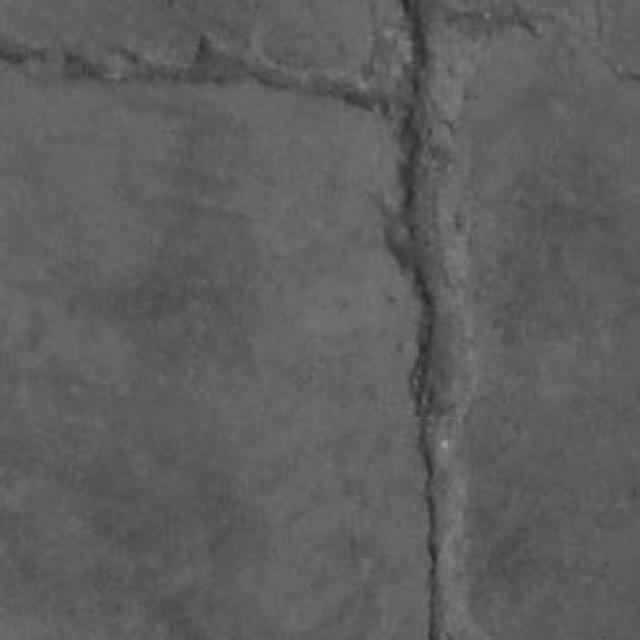crack: (386, 0, 440, 639), (0, 37, 403, 114)
